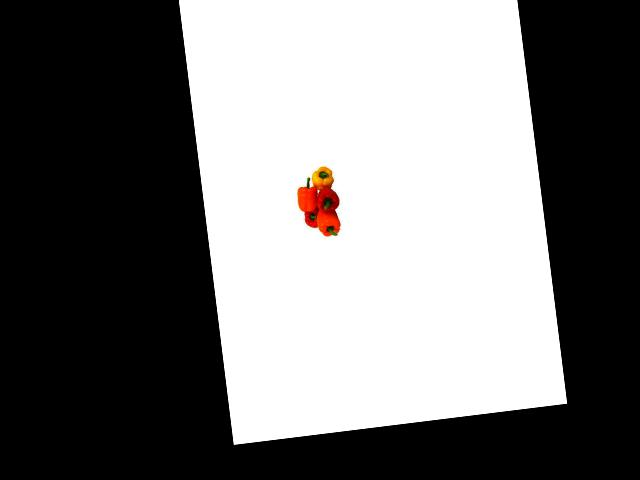bell_pepper: (313, 206, 344, 244)
